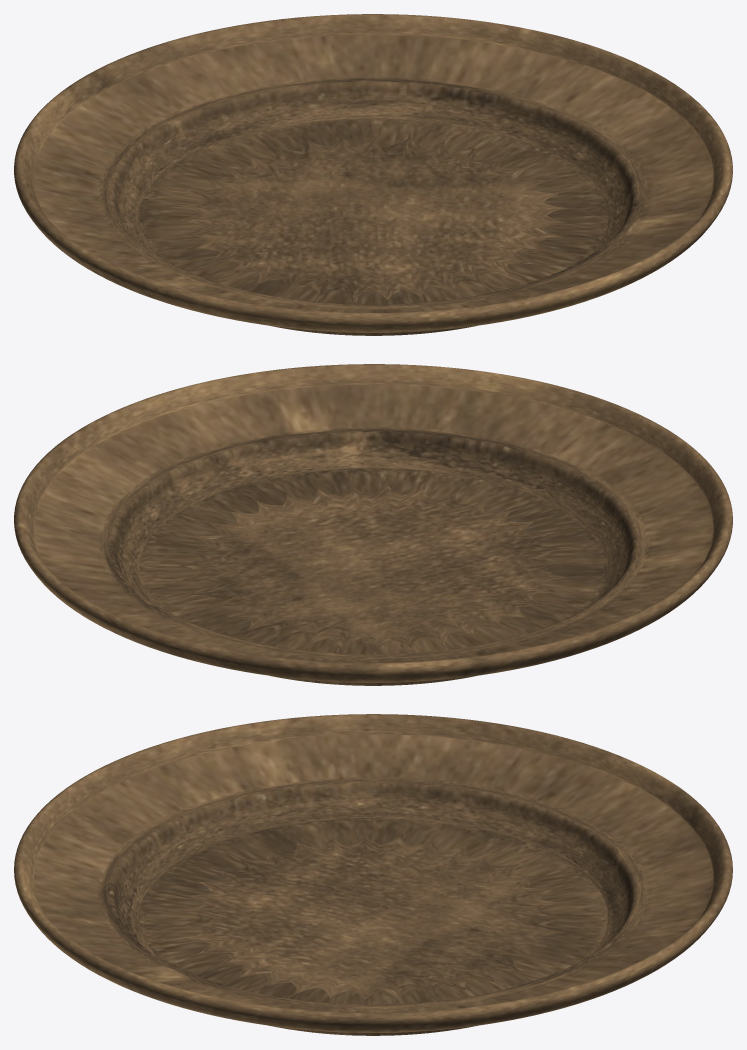
The model's file is plate.glb.
3 renders of one model, top to bottom at view 1: azimuth 30°, elevation 25°; view 2: azimuth 150°, elevation 25°; view 3: azimuth 270°, elevation 25°, orthographic.
Visible parts, largest first — view 1: Plate2; view 2: Plate2; view 3: Plate2.
Boxes of the visible parts, x1,y1,x2,y2 form: Plate2: (14,14,732,335); Plate2: (14,364,732,685); Plate2: (14,714,732,1035).
Size of the model in its own units: 0.6817 by 0.0773 by 0.6817.
Materials: 1 (1 with a texture image).
